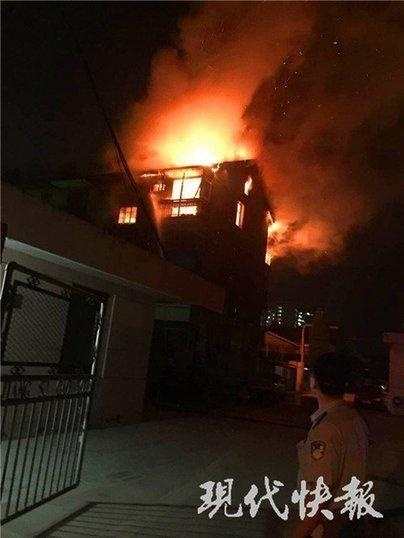fire: (156, 120, 253, 221)
